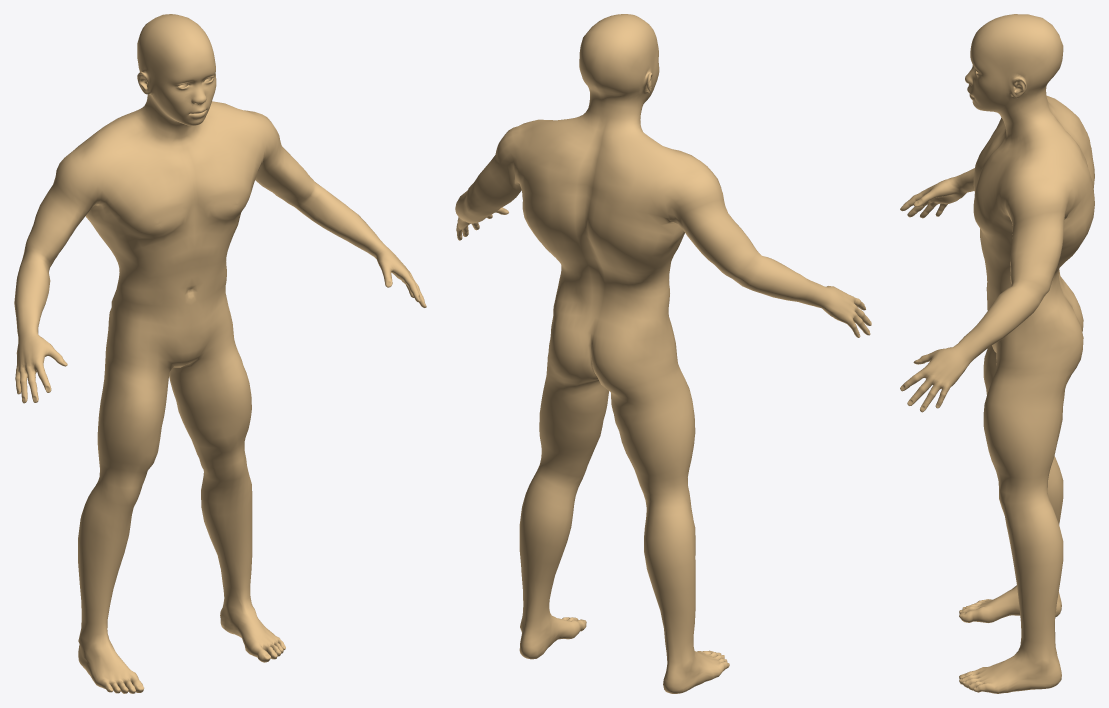
The picture shows the model from 3 angles, left to right: view 1: azimuth 30°, elevation 25°; view 2: azimuth 150°, elevation 25°; view 3: azimuth 270°, elevation 25°; orthographic projection.
Visible parts, largest first — view 1: Human; view 2: Human; view 3: Human.
Boxes of the visible parts, <box> form: Human: <box>14,14,426,693</box>; Human: <box>455,14,871,693</box>; Human: <box>900,14,1094,693</box>.
Bounding box in the file's own units: 1.02 × 1.55 × 0.4309.
